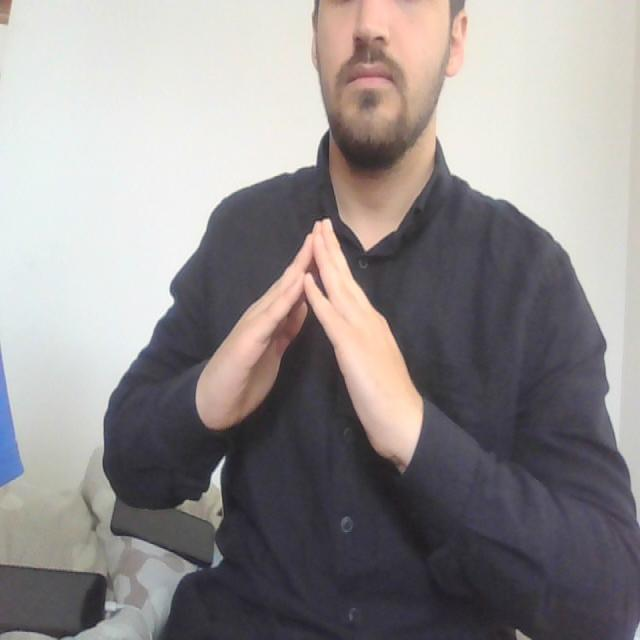Ev: (185, 210, 430, 477)
